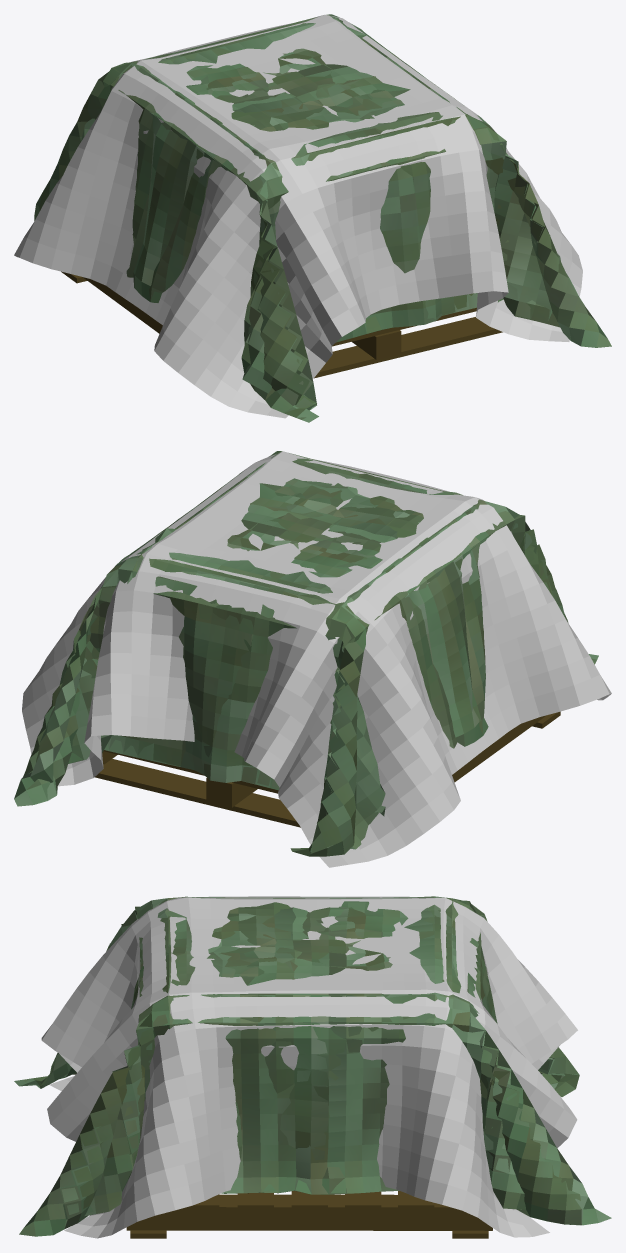
The model's file is S4_AirDropBox.fbx.
3 renders of one model, top to bottom at view 1: azimuth 30°, elevation 25°; view 2: azimuth 150°, elevation 25°; view 3: azimuth 270°, elevation 25°, orthographic. The views are drawn at different scales.
Visible parts, largest first — view 1: 평면, 큐브.002; view 2: 평면, 큐브.002; view 3: 큐브.002, 평면.
Boxes of the visible parts, x1=… form: 평면: x1=14, y1=14, x2=582, y2=418; 큐브.002: x1=34, y1=14, x2=611, y2=422; 평면: x1=22, y1=451, x2=611, y2=867; 큐브.002: x1=14, y1=451, x2=598, y2=856; 큐브.002: x1=14, y1=896, x2=611, y2=1238; 평면: x1=41, y1=896, x2=577, y2=1238.
Size of what is drawn, in the model's own units: 1.96 by 0.9548 by 2.37.
